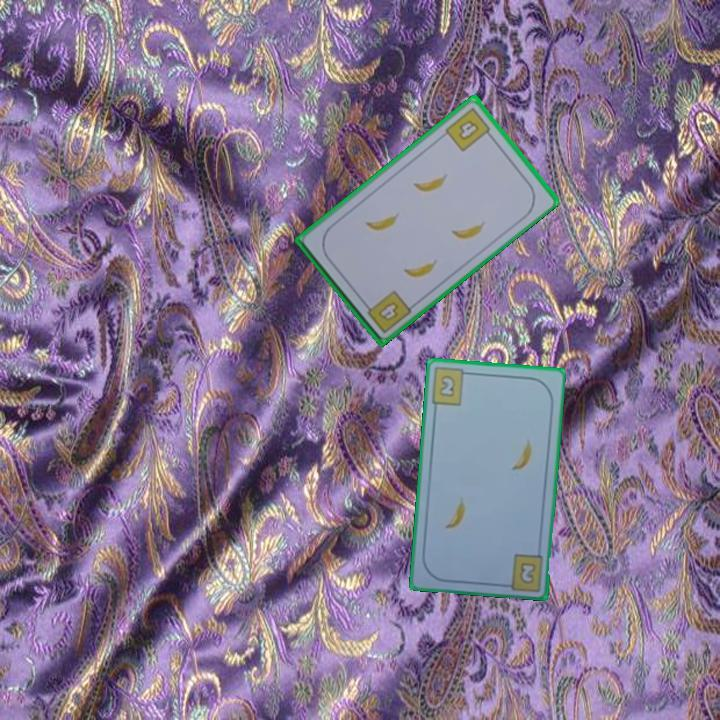2b: (428, 365, 474, 408), (516, 559, 538, 587)
4b: (442, 103, 496, 154), (374, 297, 402, 324)
